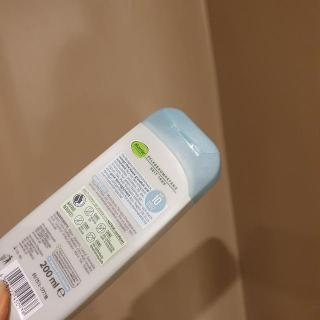Plastic-bottle: (1, 104, 224, 320)
